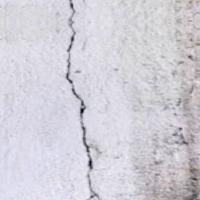crack: (46, 0, 126, 199)
